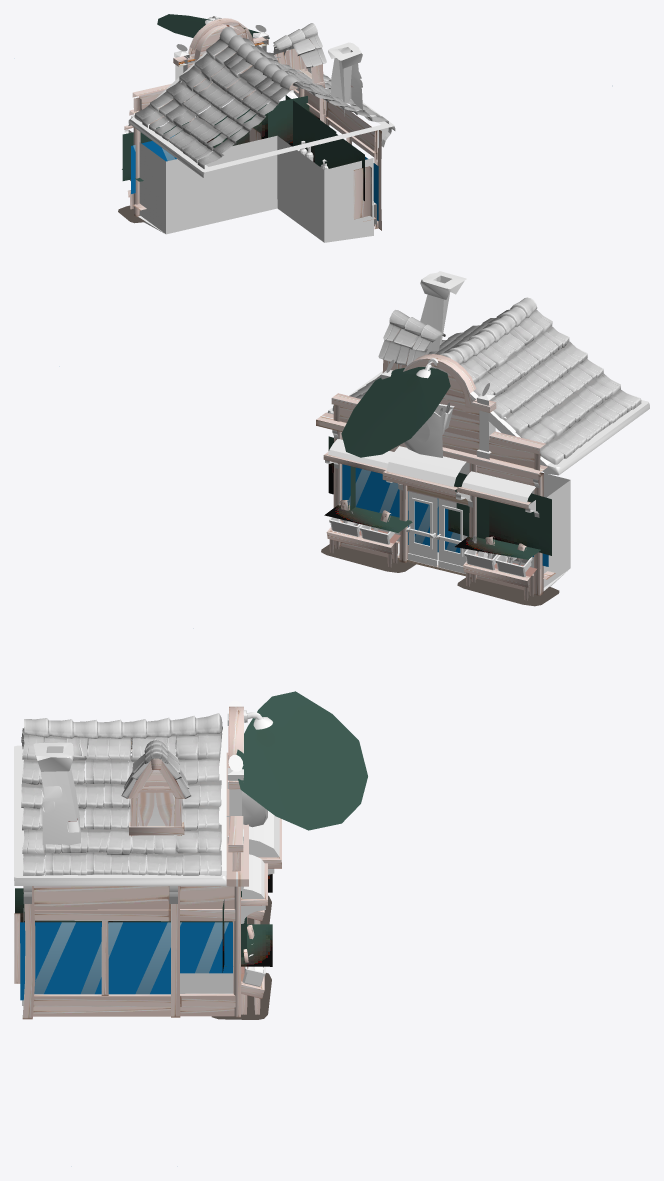
Rendered from GeneralStore.fbx.
The picture shows the model from 3 angles, top to bottom: view 1: azimuth 30°, elevation 25°; view 2: azimuth 150°, elevation 25°; view 3: azimuth 270°, elevation 25°; orthographic projection. The views are drawn at different scales.
Parts seen in each view (by area): view 1: GeneralStoreInterior, GeneralStoreRoof, Main, GeneralStoreWindow, GeneralStoreChimney, glowingHaloPlane (5), glowingHaloPlane (7), glowingHaloPlane (6), GeneralStoreLightRadius, glowingHaloPlane (8), HairSalonWindowReflection (4), glowingHaloPlane (9); view 2: Main, GeneralStoreRoof, GeneralStoreLightRadius, glowingHaloPlane (8), GeneralStoreInterior, ShadowSquare (×2), GeneralStoreWindow, HairSalonWindowReflection (2), GeneralStoreChimney, GeneralStoreLogo_Day, glowingHaloPlane (9), glowingHaloPlaneFruitBoxes (+4 smaller); view 3: Main, GeneralStoreRoof, GeneralStoreLightRadius, HairSalonWindowReflection (1), HairSalonWindowReflection (3), GeneralStoreChimney, GeneralStoreWindow, HouseWindowNightDay003, glowingHaloPlaneFruitBoxes, ShadowSquare.
Part boxes in pixels (x1,y1,x2,y2): GeneralStoreInterior: [133, 127, 375, 242]; GeneralStoreRoof: [134, 26, 388, 168]; Main: [124, 16, 395, 230]; GeneralStoreWindow: [273, 23, 326, 87]; GeneralStoreChimney: [328, 42, 362, 116]; glowingHaloPlane (5): [314, 118, 364, 200]; glowingHaloPlane (7): [248, 96, 319, 145]; glowingHaloPlane (6): [285, 95, 336, 162]; GeneralStoreLightRadius: [157, 14, 269, 38]; glowingHaloPlane (8): [122, 122, 213, 180]; HairSalonWindowReflection (4): [131, 135, 176, 193]; glowingHaloPlane (9): [214, 107, 267, 147]; Main: [316, 354, 649, 595]; GeneralStoreRoof: [332, 297, 641, 464]; GeneralStoreLightRadius: [341, 367, 450, 457]; glowingHaloPlane (8): [457, 472, 551, 555]; GeneralStoreInterior: [397, 421, 570, 590]; ShadowSquare (×2): [321, 544, 559, 606]; GeneralStoreWindow: [378, 310, 445, 372]; HairSalonWindowReflection (2): [342, 464, 399, 517]; GeneralStoreChimney: [420, 271, 466, 354]; GeneralStoreLogo_Day: [404, 402, 454, 457]; glowingHaloPlane (9): [448, 476, 489, 538]; glowingHaloPlaneFruitBoxes: [324, 505, 412, 532]; Main: [14, 700, 281, 1019]; GeneralStoreRoof: [21, 713, 222, 875]; GeneralStoreLightRadius: [236, 691, 367, 830]; HairSalonWindowReflection (1): [20, 922, 127, 1000]; HairSalonWindowReflection (3): [127, 922, 232, 994]; GeneralStoreChimney: [33, 742, 80, 850]; GeneralStoreWindow: [121, 740, 191, 836]; HouseWindowNightDay003: [138, 792, 174, 826]; glowingHaloPlaneFruitBoxes: [222, 924, 272, 966]; ShadowSquare: [211, 973, 271, 1019].
Bounding box in the file's own units: 13.98 × 5.22 × 11.65.
5 materials, 2 textured.
